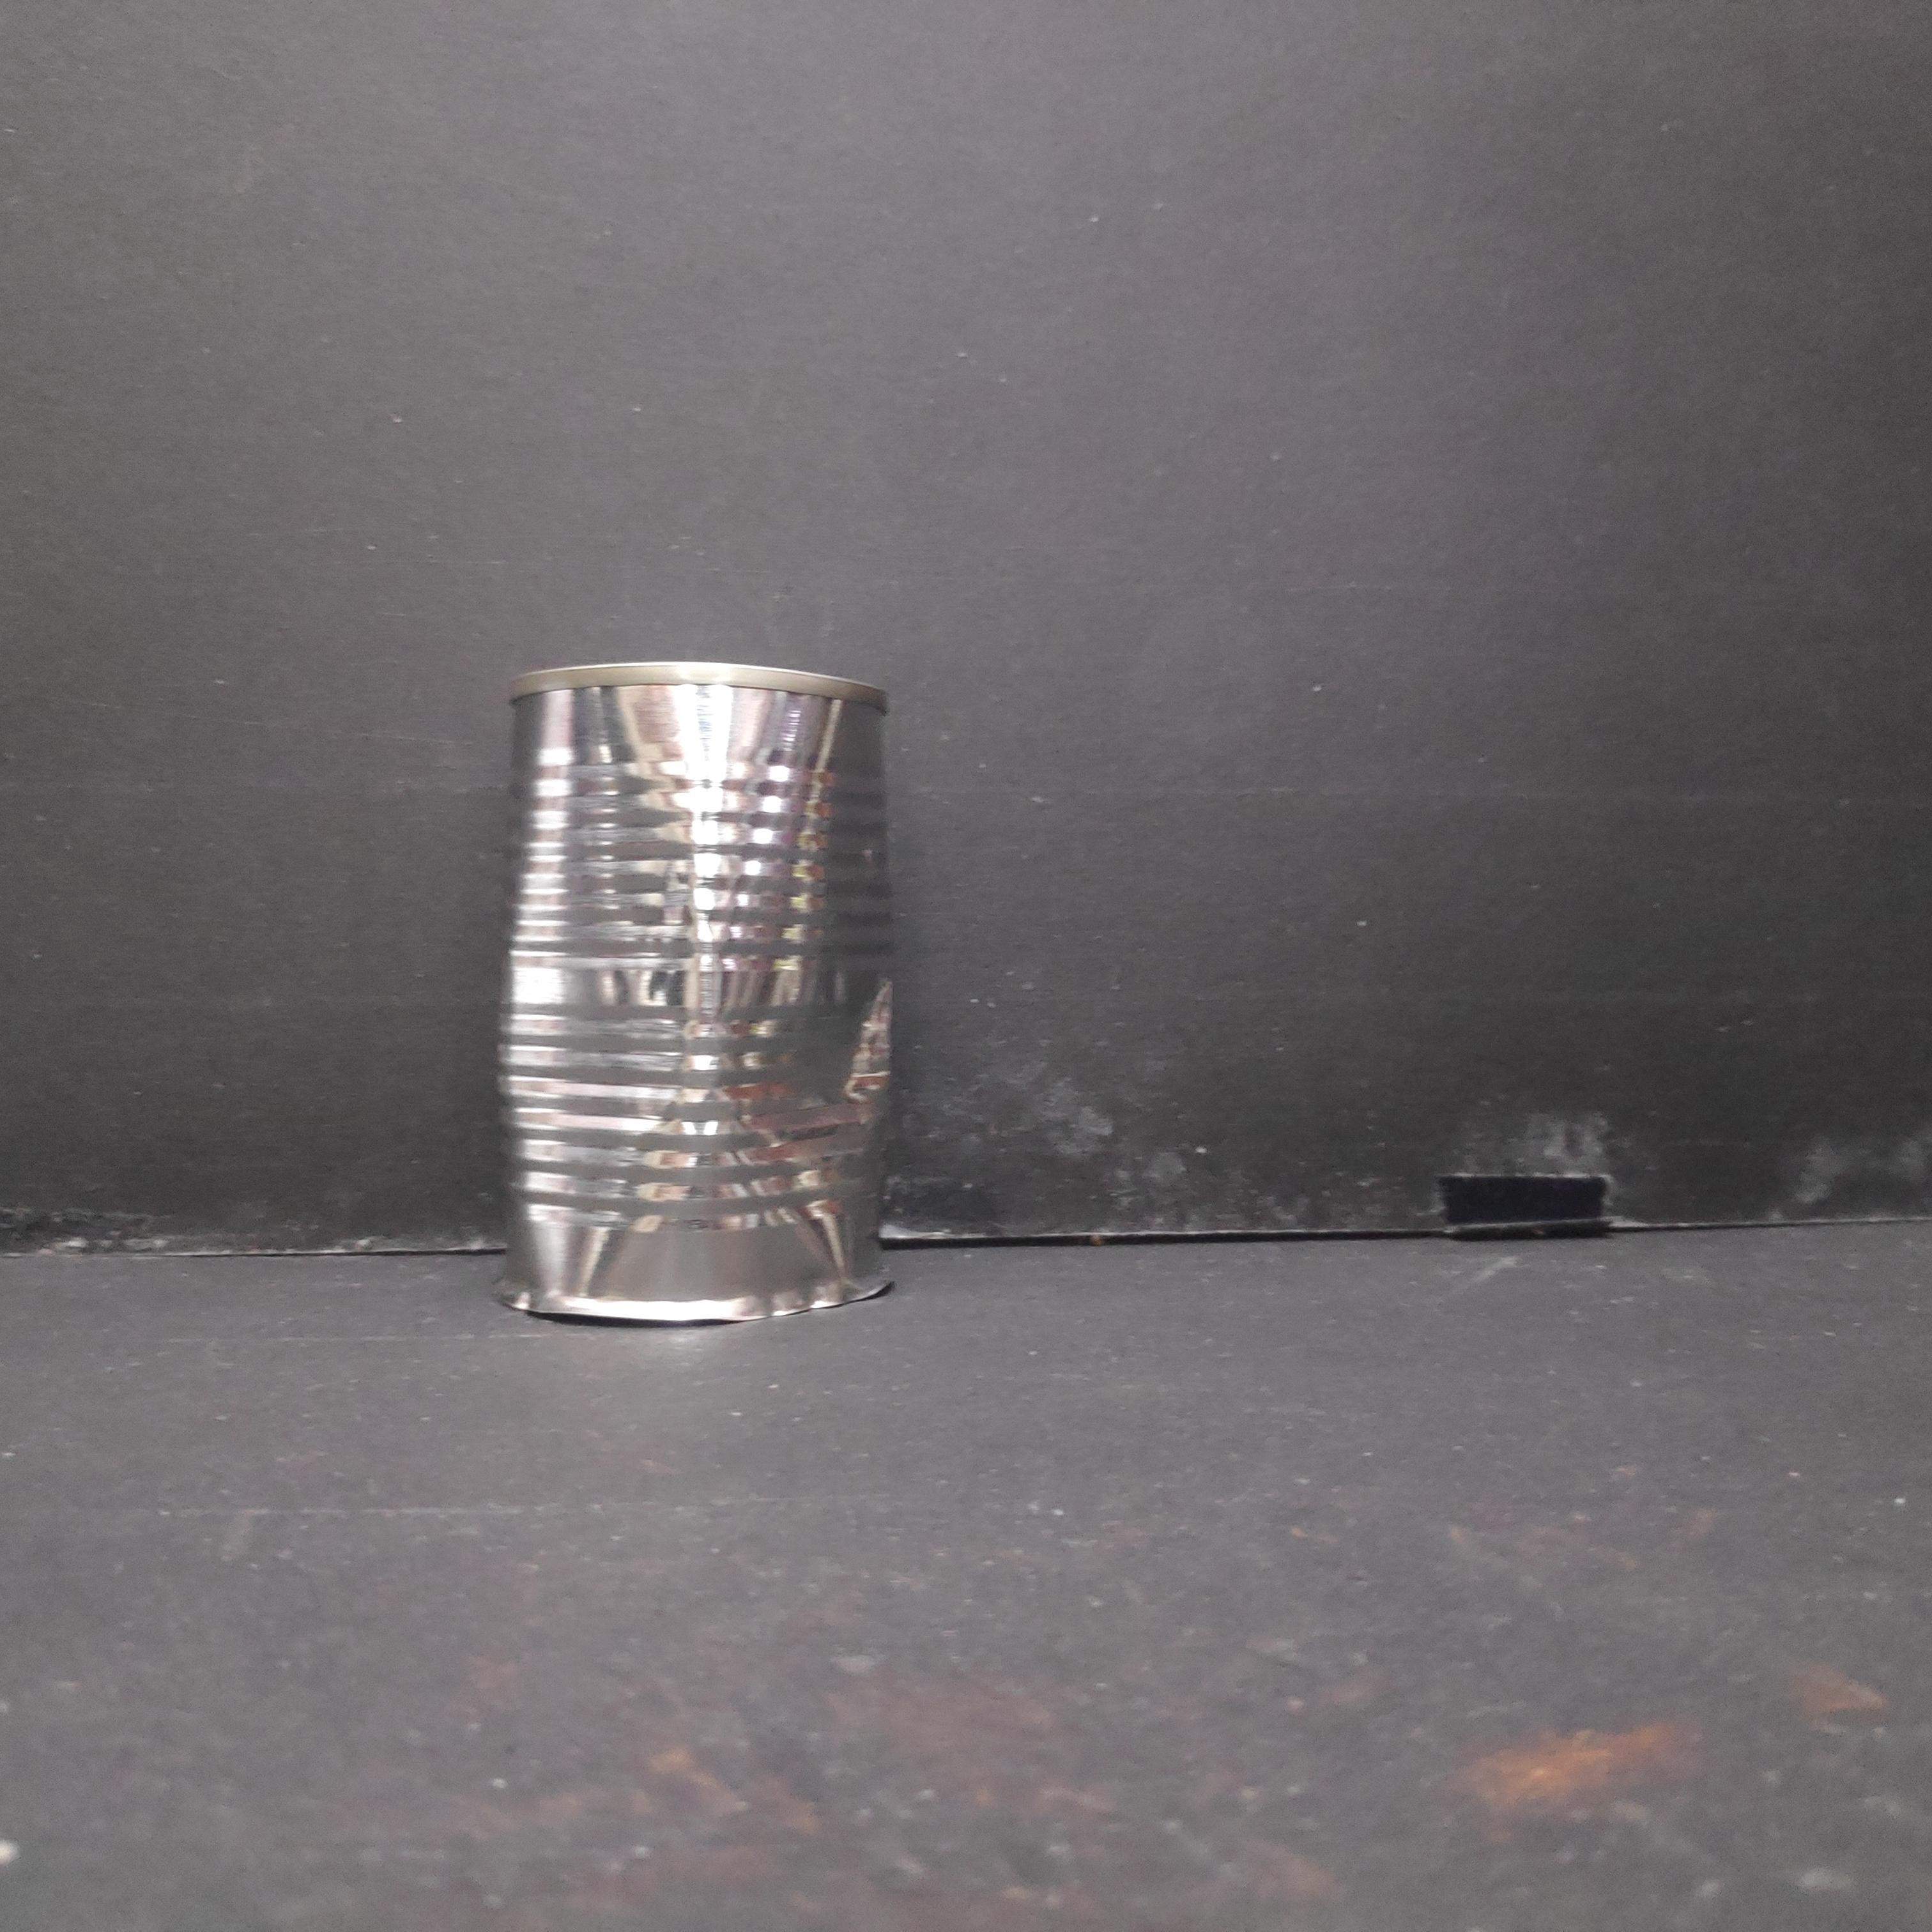Minor Defect: (483, 640, 909, 1339)
